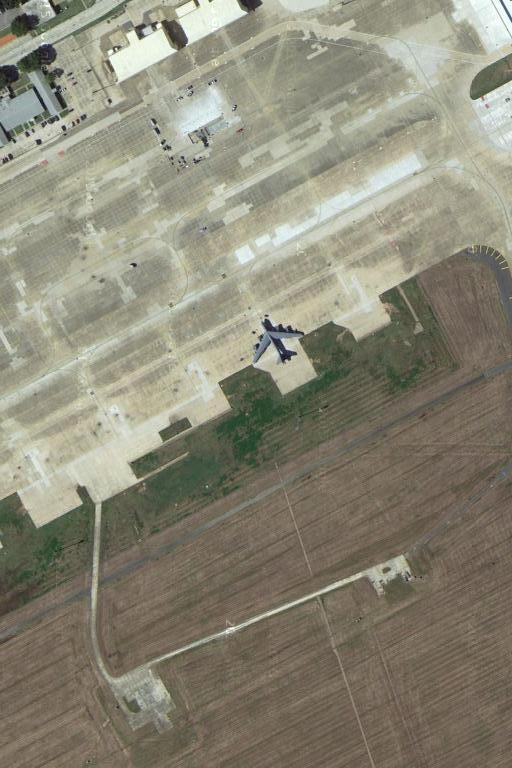B-52: (249, 312, 306, 369)
